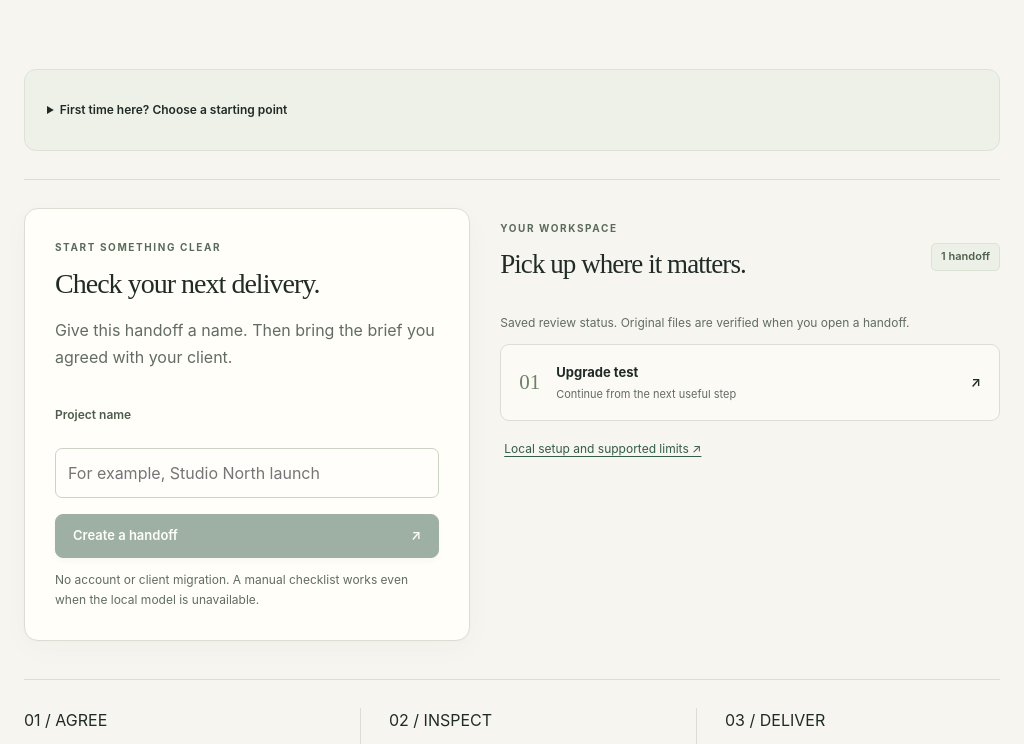
Test case: renders only the client projection, with originals instruction and file inventory
(page scrolled)
Click the button with aria-label "Upgrade test ↗": (597, 372) x1=500 y1=344 x2=1000 y2=421
(page scrolled)
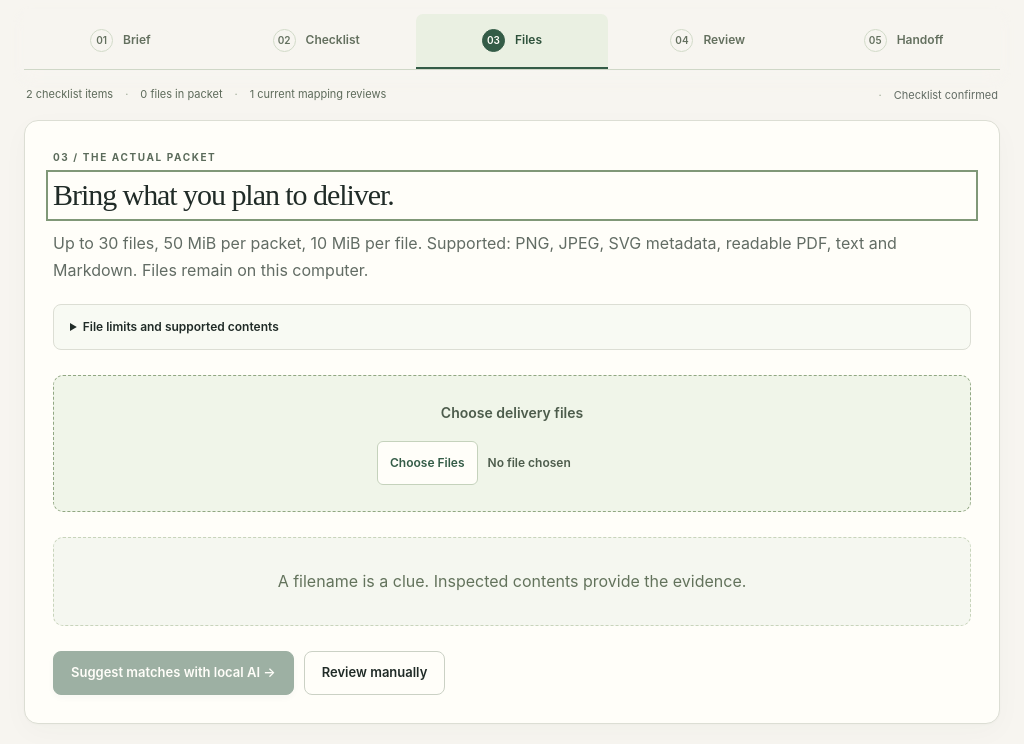
Click the button "05 Handoff": (904, 41) x1=807 y1=14 x2=1000 y2=69
(page scrolled)
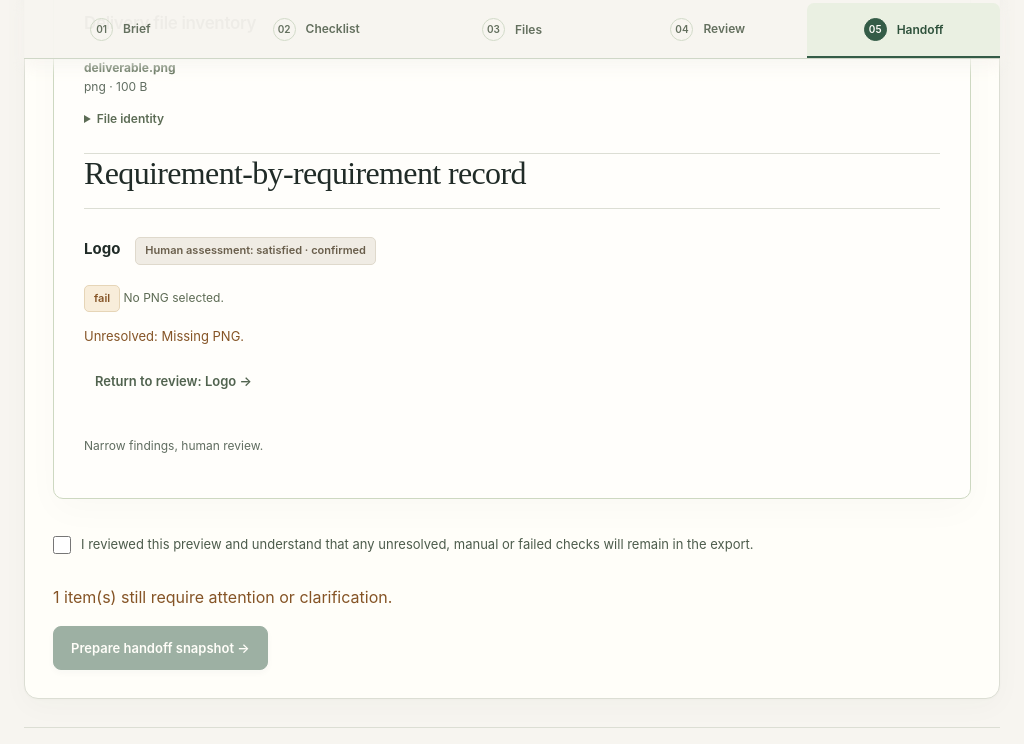
expect the text "deliverable.png" is shown: met, box x1=84 y1=60 x2=176 y2=75
expect the heading "Delivery file inventory" is shown: met, box x1=84 y1=13 x2=256 y2=33
expect the button "Return to review: Logo →" is shown: met, box x1=84 y1=360 x2=263 y2=404
